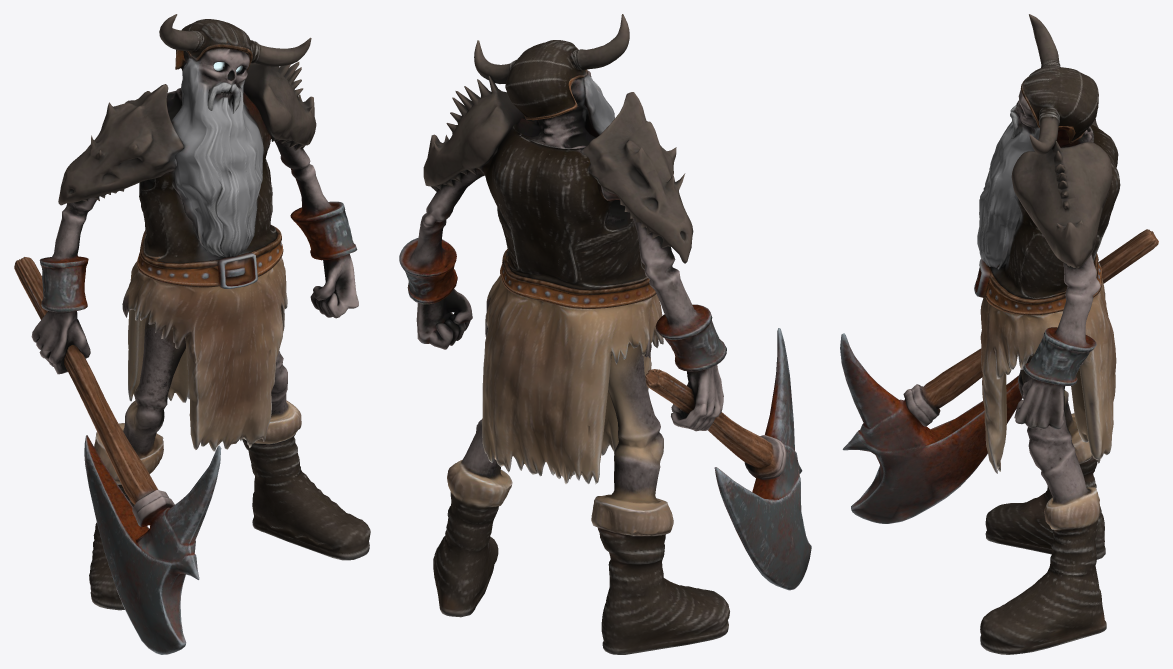
Rendered from MZ4250 - Frost Giant Skeleton.glb.
3 renders of one model, left to right at view 1: azimuth 30°, elevation 25°; view 2: azimuth 150°, elevation 25°; view 3: azimuth 270°, elevation 25°, orthographic. The views are drawn at different scales.
Parts seen in each view (by area): view 1: Body.003; view 2: Body.003; view 3: Body.003.
Part boxes in pixels (x1,y1,x2,y2): Body.003: [14, 14, 370, 654]; Body.003: [399, 14, 811, 654]; Body.003: [840, 14, 1158, 654].
Bounding box in the file's own units: 53.17 × 96.07 × 50.
1 material, 1 textured.
